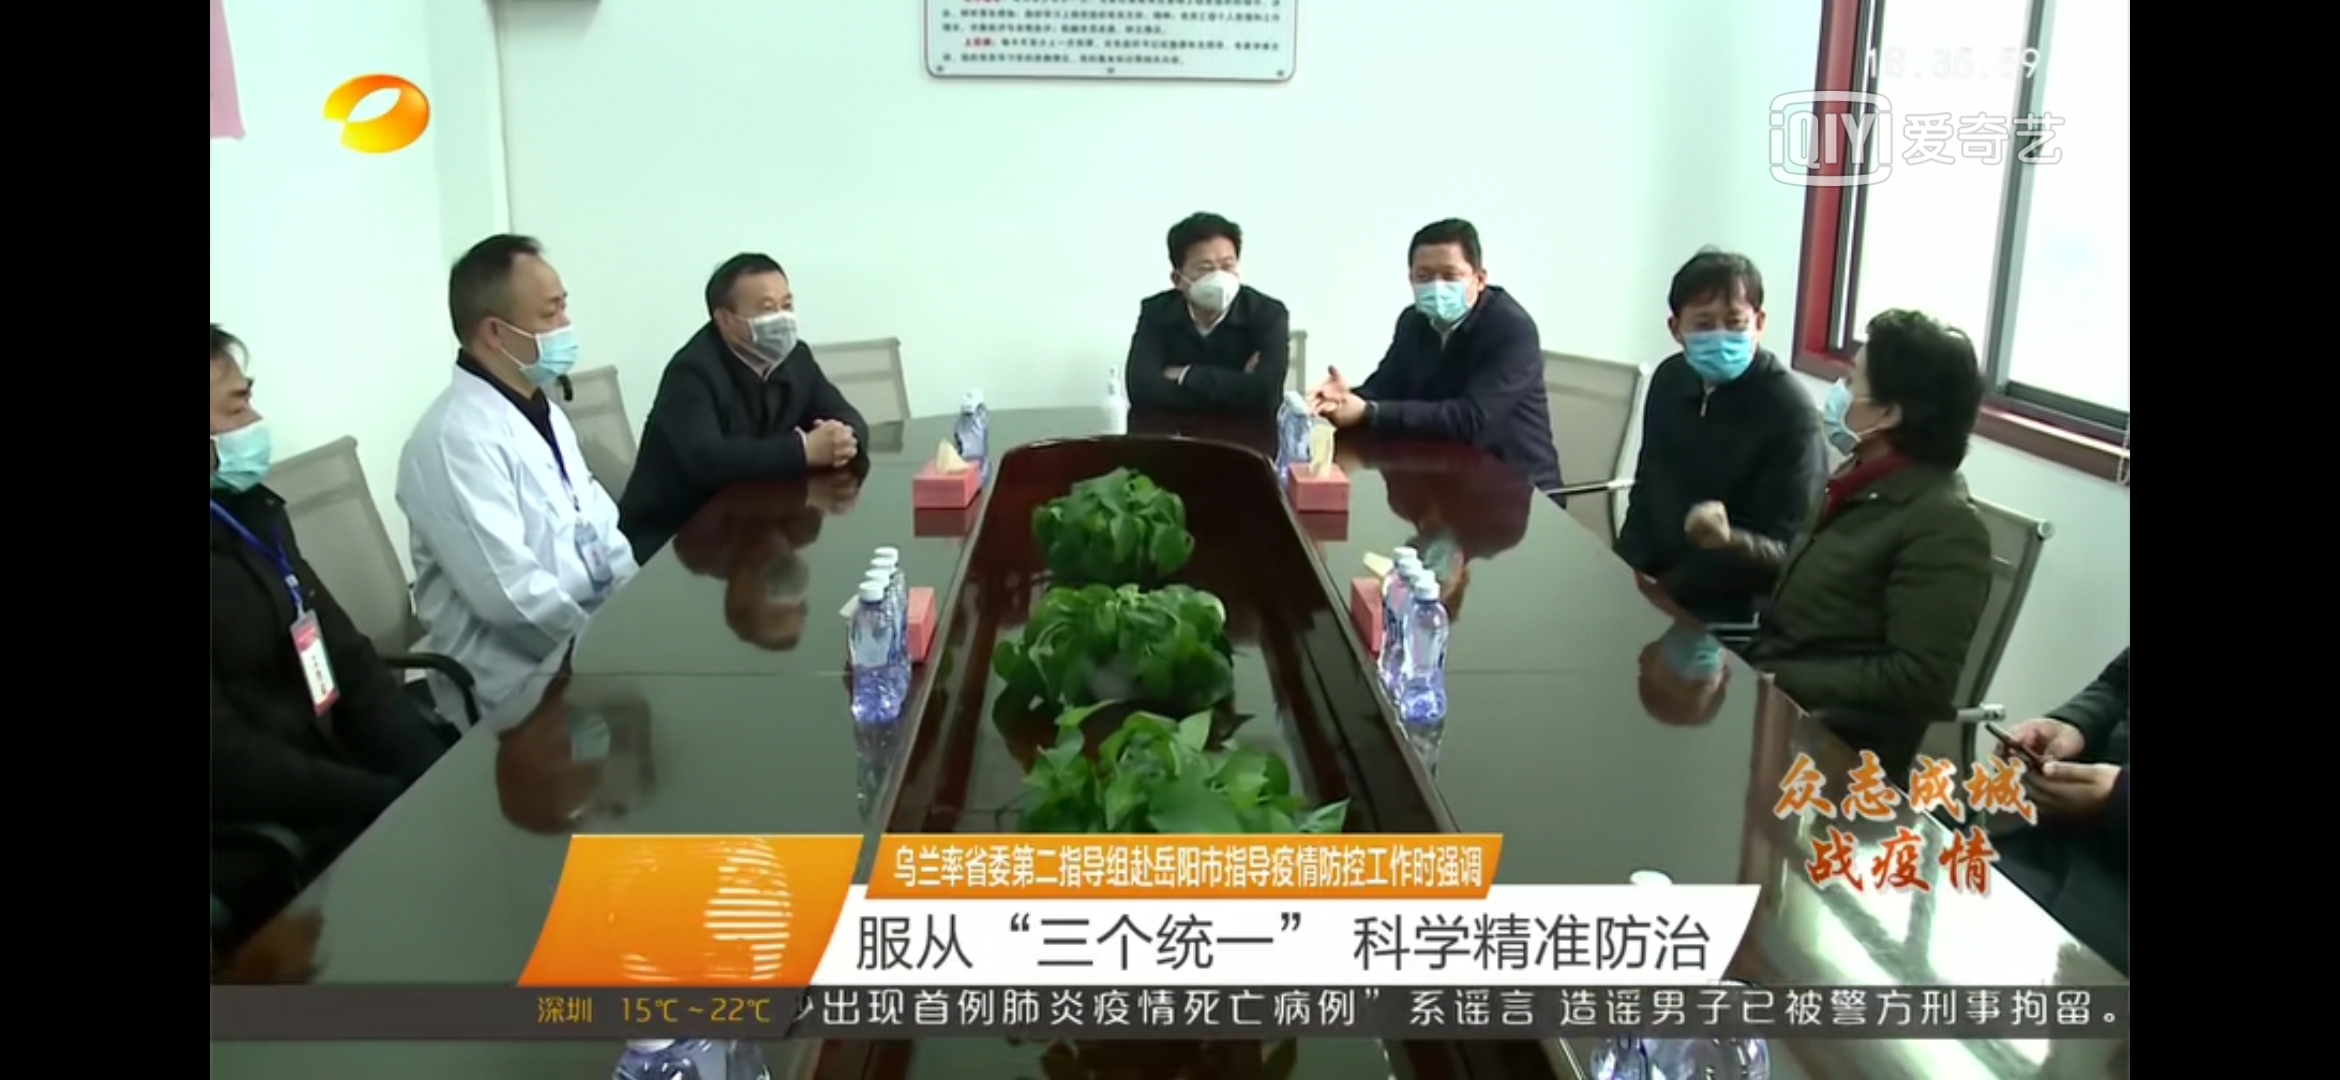correctlyWear: (478, 273, 586, 394), (206, 365, 276, 507), (1664, 291, 1770, 380), (1812, 354, 1903, 453), (710, 280, 801, 371), (1404, 260, 1489, 322), (1170, 246, 1242, 318)
